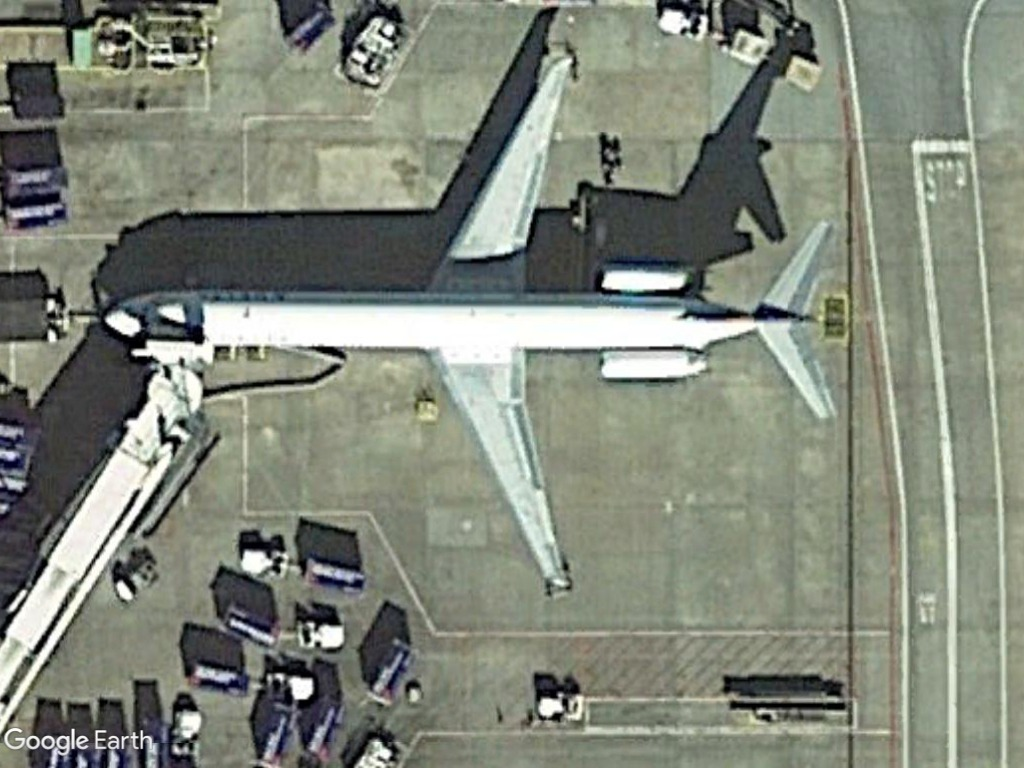chartered: (86, 43, 856, 598)
